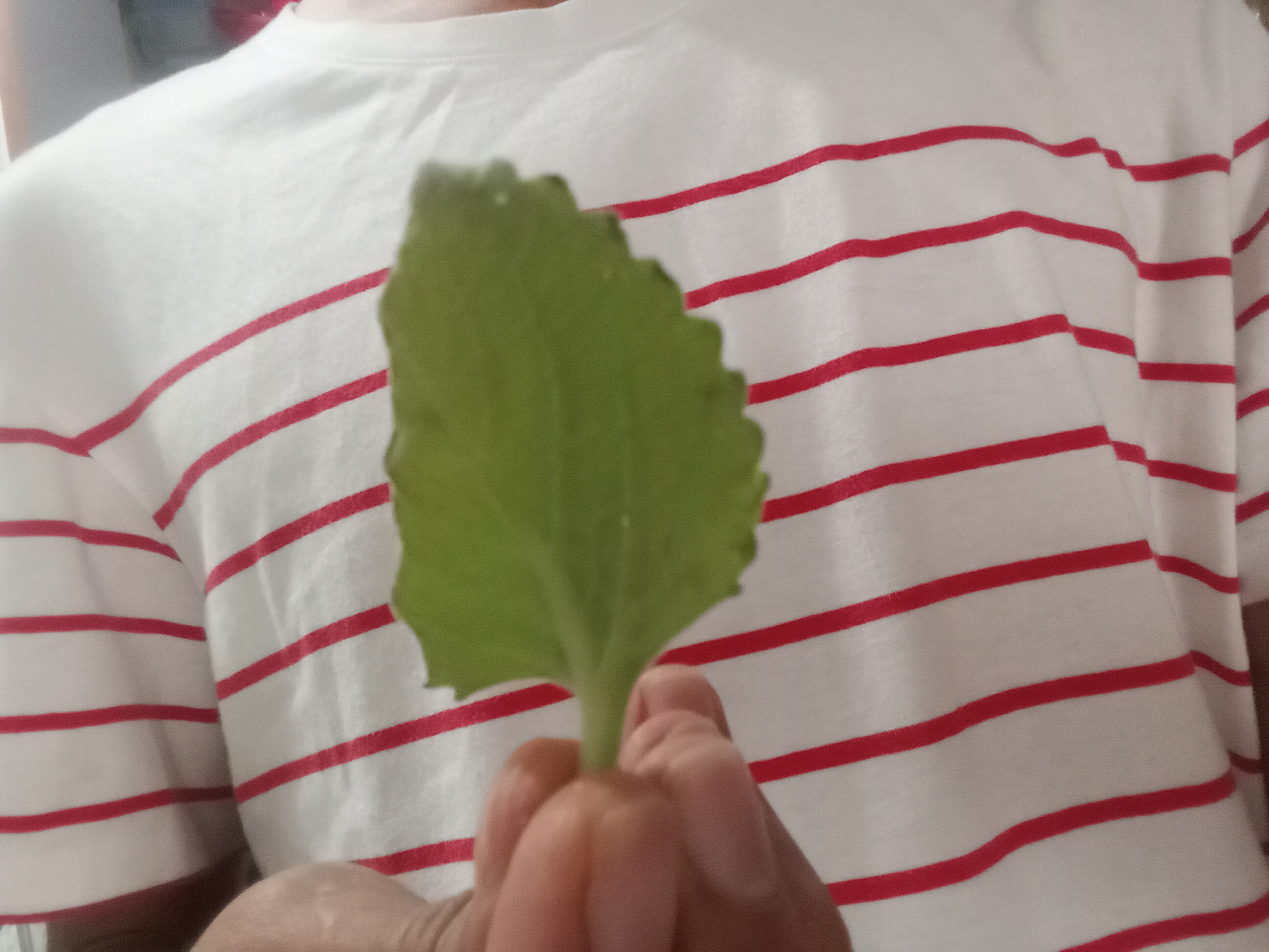Organico: (381, 157, 771, 771)
